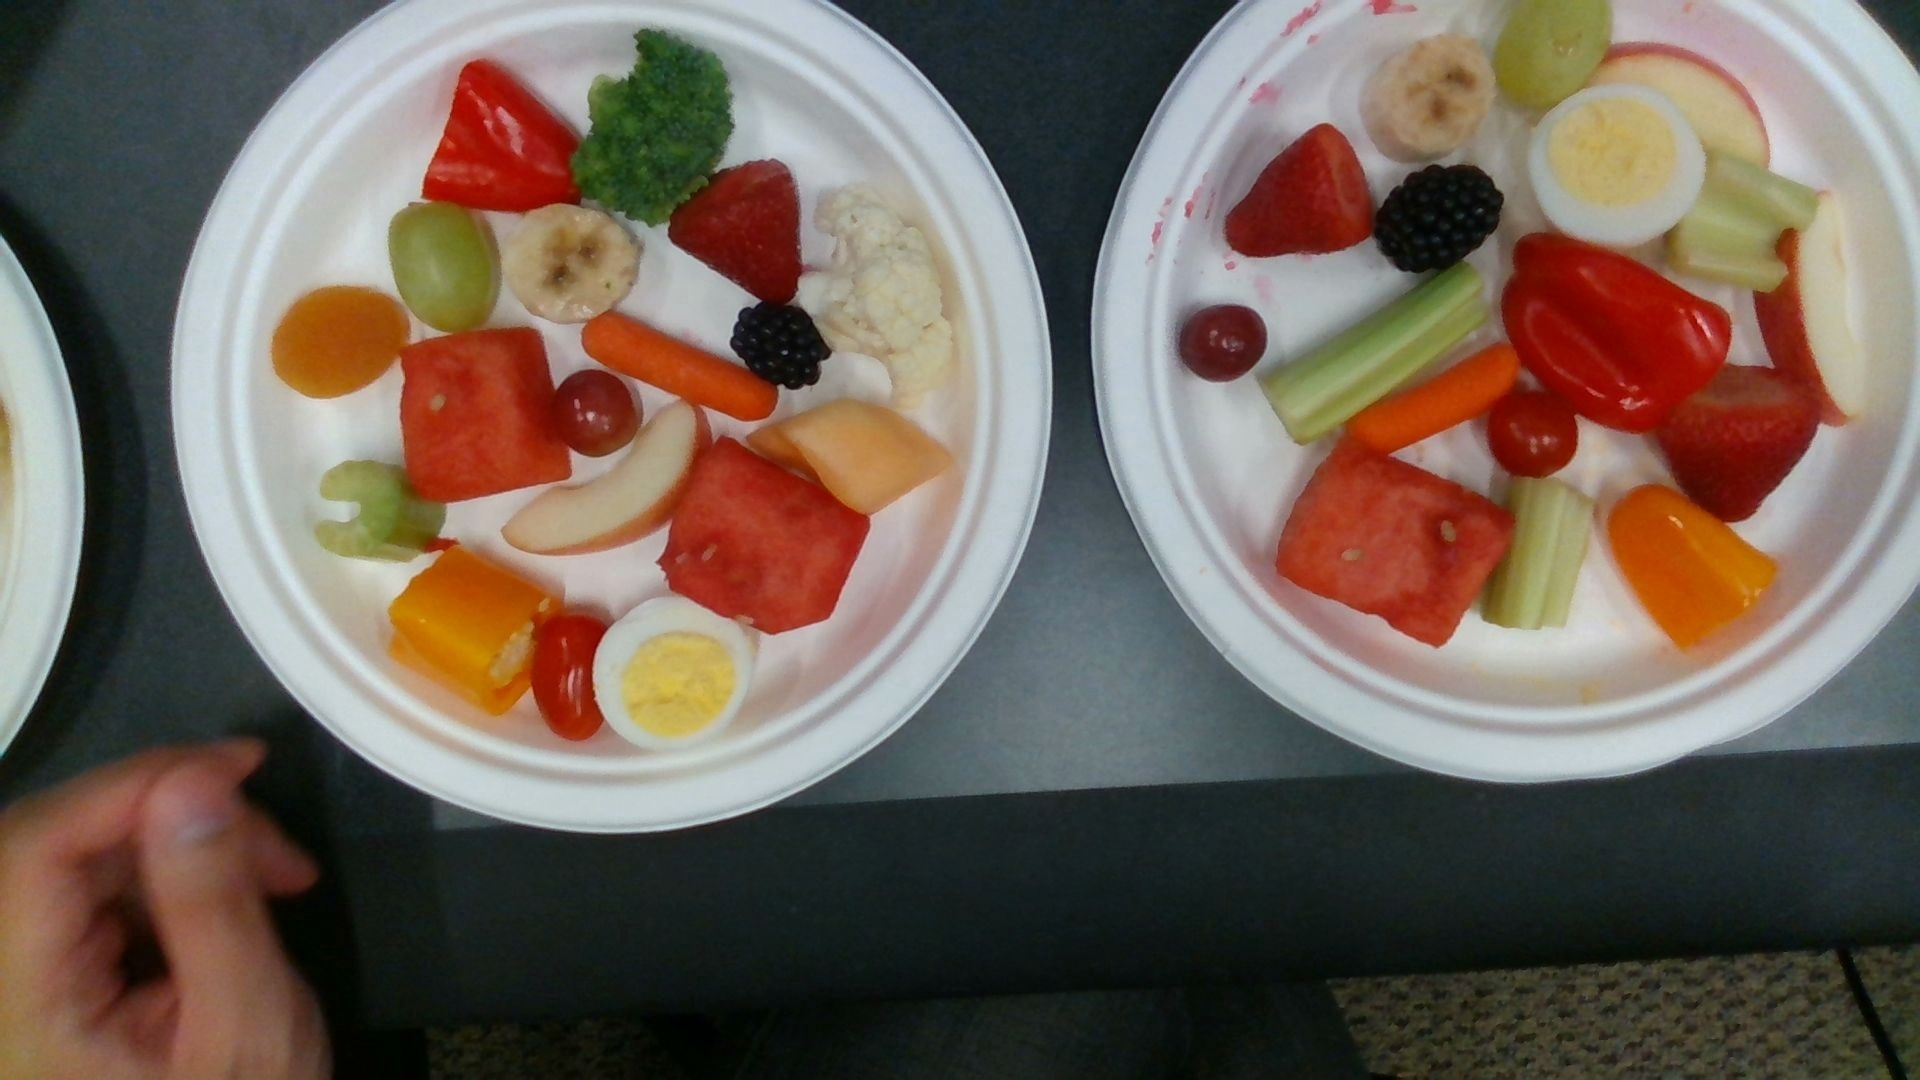apple: (498, 401, 715, 550), (1755, 191, 1859, 423), (1594, 45, 1772, 166)
apricot: (274, 285, 407, 398)
banana: (1364, 36, 1491, 161), (512, 204, 642, 320)
bell_pepper: (1505, 237, 1730, 430), (390, 549, 560, 713), (1609, 487, 1775, 650), (422, 63, 584, 214)
blackberry: (1377, 165, 1501, 272), (737, 301, 829, 390)
broccoli: (572, 33, 732, 222)
cantalope: (746, 405, 949, 512)
carrot: (584, 310, 777, 423), (1349, 343, 1520, 451)
cauliflower: (814, 185, 955, 413)
celery: (1262, 268, 1485, 440), (1662, 156, 1815, 287), (1487, 485, 1592, 630), (316, 460, 440, 556)
cherry_tomato: (530, 616, 609, 740), (1491, 392, 1577, 473)
egg: (1527, 80, 1704, 245), (593, 593, 756, 750)
grape_green: (389, 203, 498, 331), (1493, 1, 1607, 117)
grape_purple: (560, 371, 637, 460), (1182, 306, 1267, 380)
melon: (1280, 440, 1509, 650), (665, 438, 866, 632), (397, 334, 567, 498)
strawberry: (1660, 368, 1815, 521), (1229, 127, 1374, 258), (674, 161, 802, 303)
